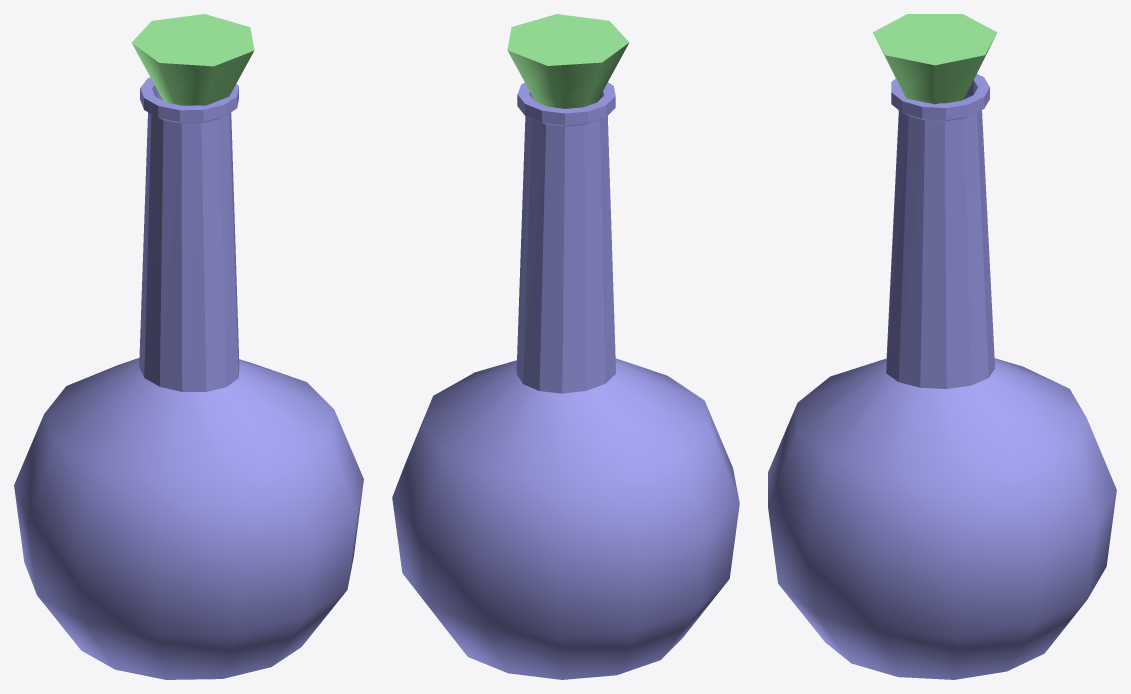
File: botella2.glb
3 views of the same model, side by side, from view 1: azimuth 30°, elevation 25°; view 2: azimuth 150°, elevation 25°; view 3: azimuth 270°, elevation 25° (orthographic).
Parts seen in each view (by area): view 1: Sphere001, Cone001; view 2: Sphere001, Cone001; view 3: Sphere001, Cone001.
Boxes of the visible parts, x1,y1,x2,y2 form: Sphere001: (14,77,363,679); Cone001: (131,14,254,105); Sphere001: (392,82,739,679); Cone001: (507,14,629,108); Sphere001: (768,74,1116,679); Cone001: (873,14,997,104).
Bounding box in the file's own units: 0.1613 × 0.3054 × 0.1601.
